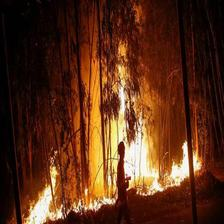fire: (99, 35, 151, 140), (18, 162, 112, 220), (135, 142, 208, 198)
